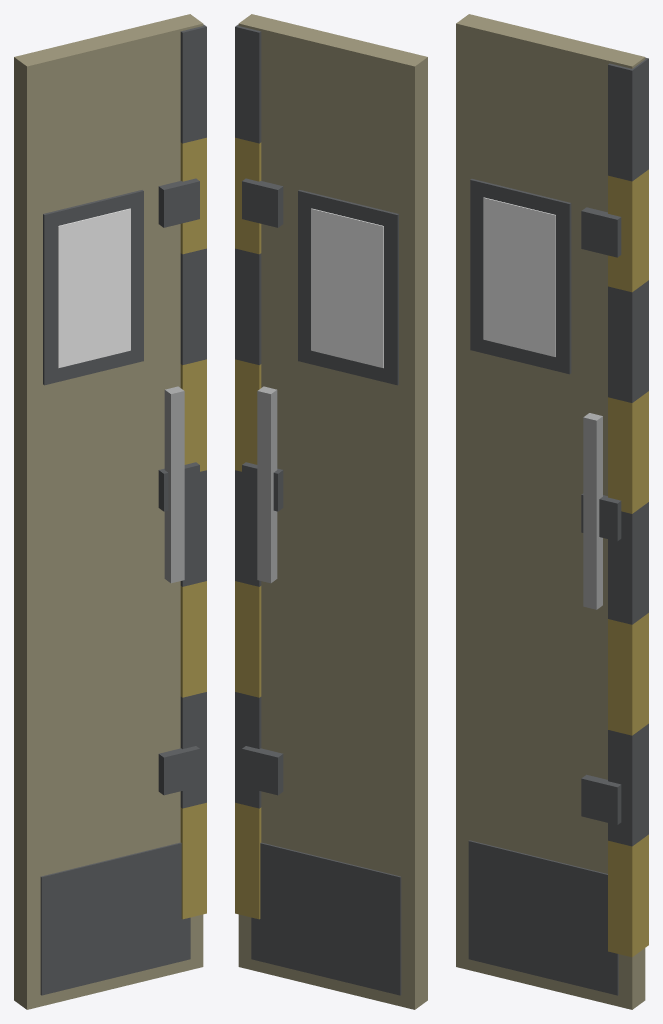
The model's file is habBulkhead_steel_door2.glb.
3 views of the same model, side by side, from view 1: azimuth 30°, elevation 25°; view 2: azimuth 150°, elevation 25°; view 3: azimuth 330°, elevation 25° (orthographic).
Visible parts, largest first — view 1: habBulkhead_steel_door2; view 2: habBulkhead_steel_door2; view 3: habBulkhead_steel_door2.
Boxes of the visible parts, x1=… form: habBulkhead_steel_door2: x1=14, y1=14, x2=206, y2=1009; habBulkhead_steel_door2: x1=235, y1=14, x2=427, y2=1009; habBulkhead_steel_door2: x1=456, y1=14, x2=648, y2=1009.
Bounding box in the file's own units: 0.394 × 2 × 0.114.
